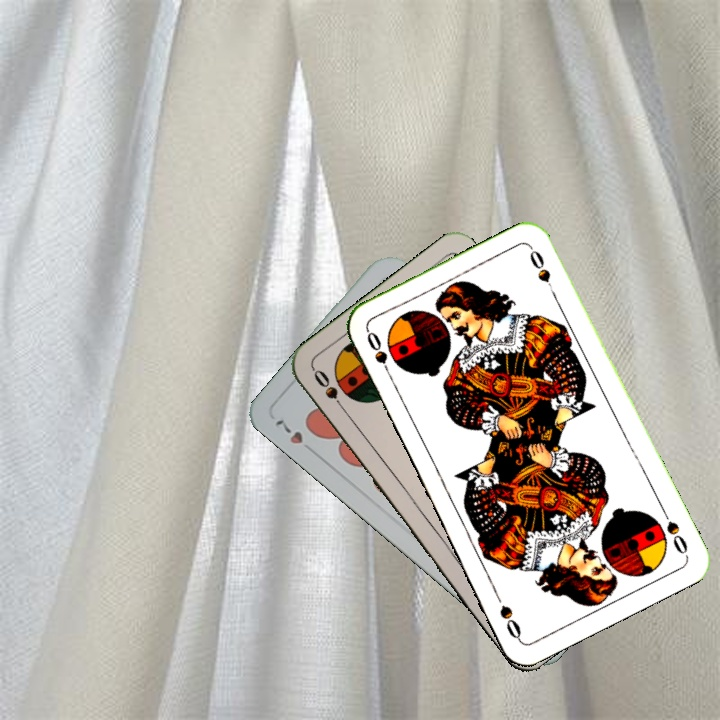H7: (270, 415, 319, 457)
SO: (309, 365, 350, 417), (657, 503, 691, 558), (362, 327, 395, 382)
